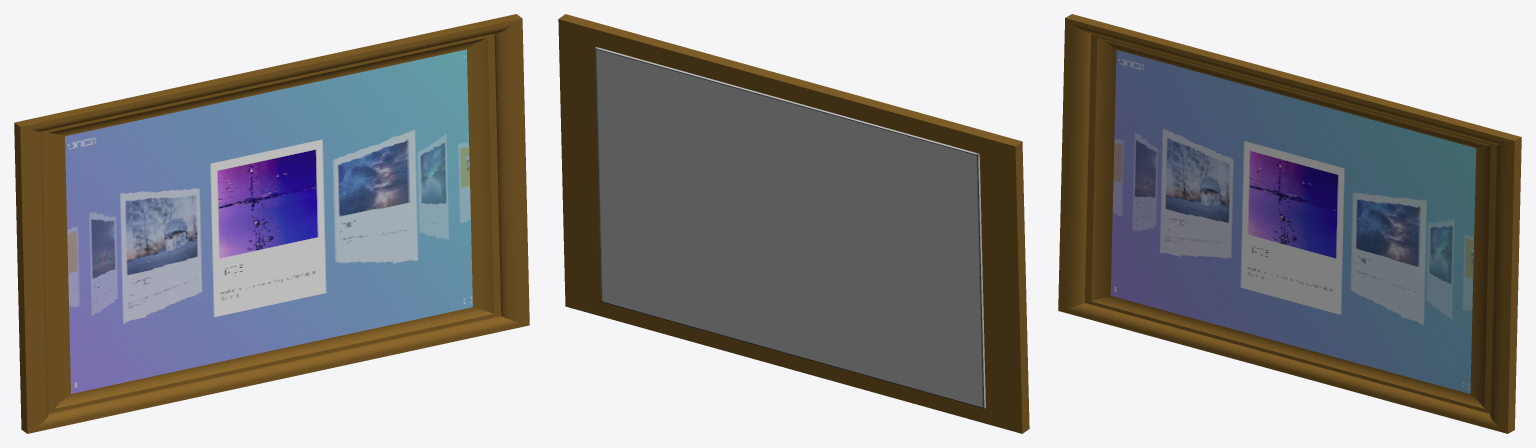
Rendered from photoframe0.glb.
3 renders of one model, left to right at view 1: azimuth 30°, elevation 25°; view 2: azimuth 150°, elevation 25°; view 3: azimuth 330°, elevation 25°, orthographic. The views are drawn at different scales.
Parts seen in each view (by area): view 1: 큐브, node_id7; view 2: 큐브, node_id7; view 3: 큐브, node_id7.
Boxes of the visible parts, bbox=[...] form: 큐브: bbox=[65, 49, 472, 393]; node_id7: bbox=[14, 14, 529, 433]; 큐브: bbox=[594, 47, 985, 408]; node_id7: bbox=[558, 14, 1029, 433]; 큐브: bbox=[1110, 50, 1476, 393]; node_id7: bbox=[1058, 14, 1521, 433].
Bounding box in the file's own units: 2.31 × 1.37 × 0.2423.
2 materials, 1 textured.
